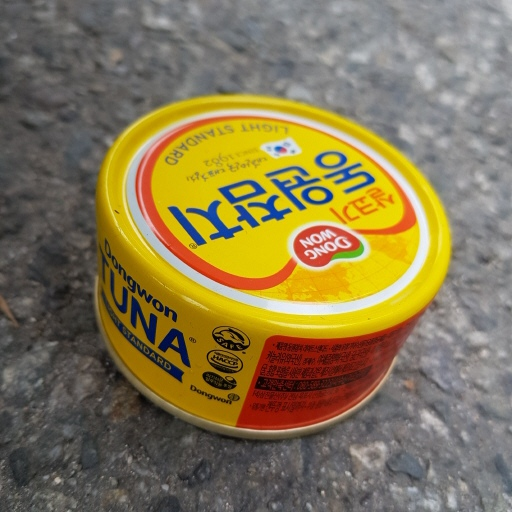Metal_1: (88, 91, 456, 438)
